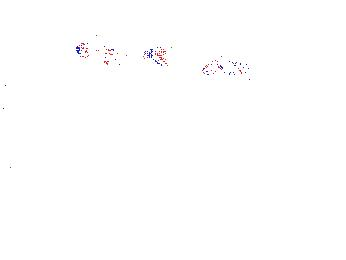red belly glassfish: (200, 57, 250, 81)
redtail glassfish: (68, 39, 173, 69), (1, 65, 76, 95)
